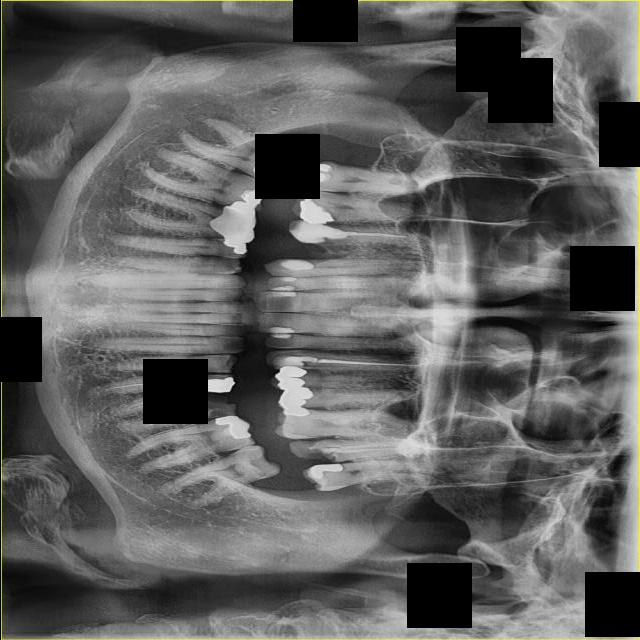74: (137, 407, 200, 431), (123, 394, 195, 413), (318, 358, 420, 368), (104, 379, 193, 390), (328, 442, 399, 454), (342, 231, 407, 237)
NucleOSS Implant: (250, 141, 299, 187), (210, 407, 256, 446), (293, 194, 335, 235), (226, 185, 269, 220), (276, 385, 313, 411), (274, 365, 307, 392), (306, 457, 343, 481), (191, 377, 235, 395), (222, 233, 249, 258), (309, 170, 326, 189), (283, 406, 309, 417), (314, 162, 332, 173)
Sterngold Implant: (288, 436, 340, 464), (243, 446, 280, 483), (195, 391, 236, 422), (302, 259, 328, 267)
Straumann Implant: (287, 218, 346, 250), (272, 352, 320, 370), (279, 258, 314, 271), (266, 290, 295, 297), (264, 327, 295, 333), (269, 332, 291, 340), (268, 286, 297, 292), (277, 276, 297, 282)
Zimmer Implant: (209, 205, 256, 245)
